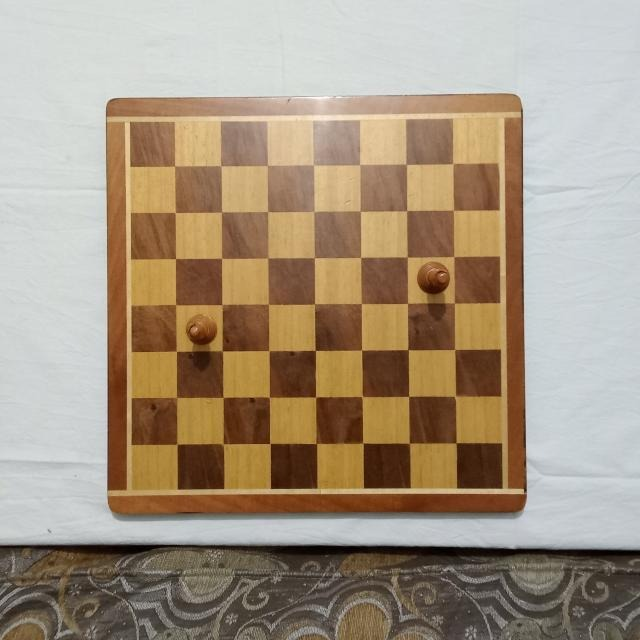white-bishop: (417, 260, 453, 296), (184, 312, 219, 347)
